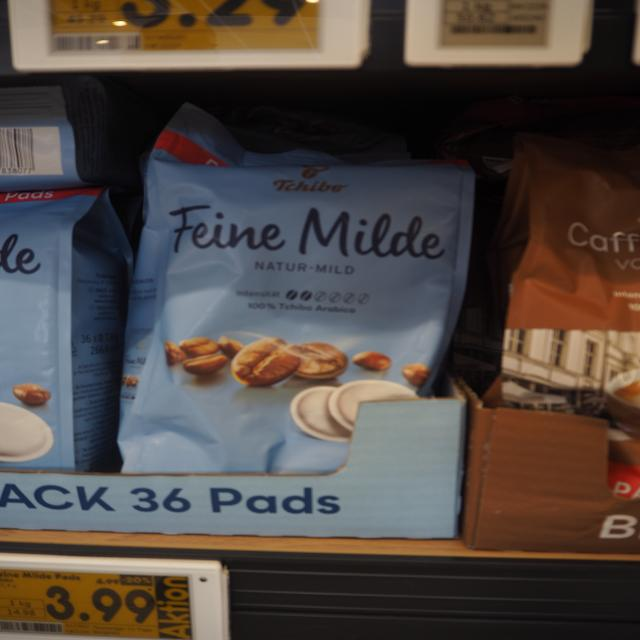FM 36 Pads: (104, 94, 482, 524)
